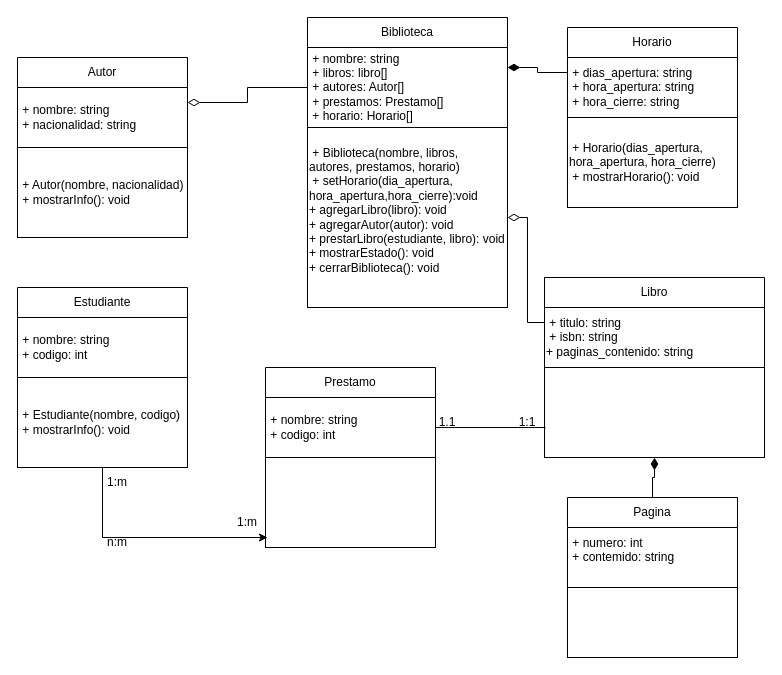
This 782x675 diagram has some shape labels left out. Here are the shapes that lost their labels. From the top down, the centre of each, then its label:
At point (654, 412): "+ Libro(titulo, isbn, paginas_contenido) + mostrarInfo(): void + __str__(): void".
At point (350, 502): "+ Prestamo(Estudiante, libros, dias_prestamo) + mostrarInfo(): void".
At point (652, 622): "+ Pagina(numero, contenido) + mostrar(): void".
